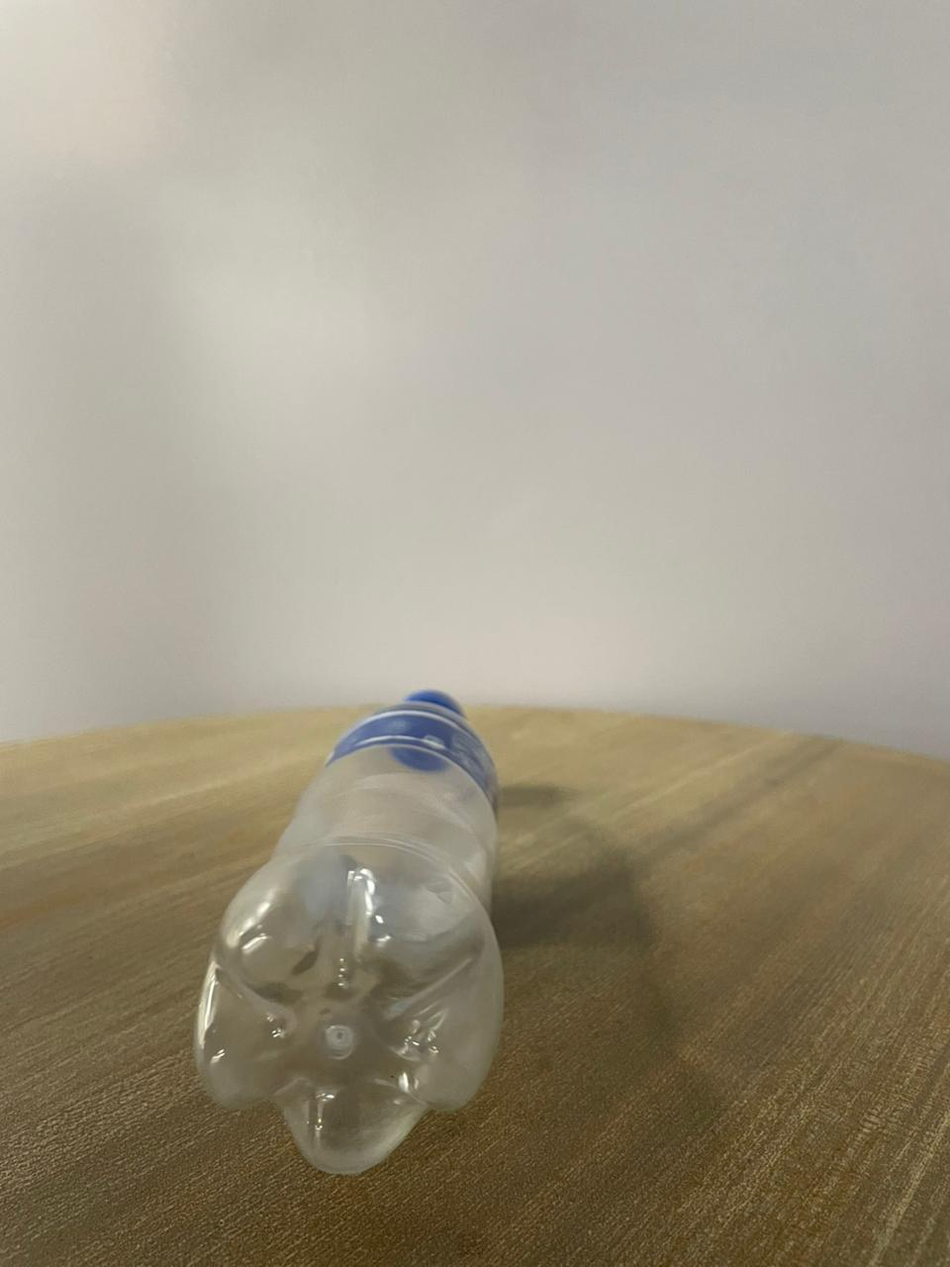Pepsi Bottle: (203, 664, 513, 1194), (198, 666, 509, 1180)
